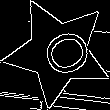O_SW: (25, 21, 90, 83)
